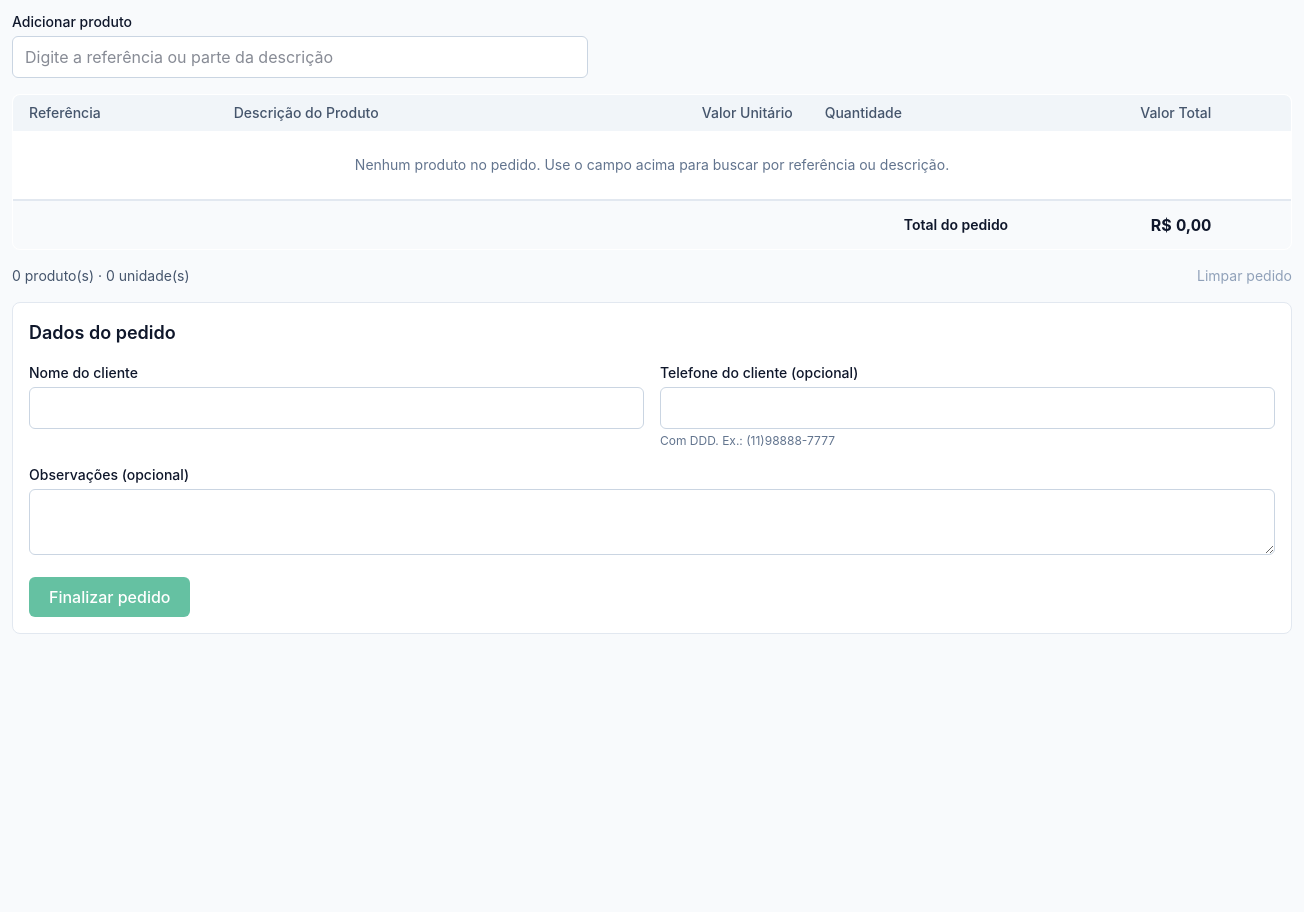
Scenario: seletor de produtos › sugere por referência ou descrição e adiciona a linha com quantidade 1
In the dropdown labelled "Adicionar produto": [300, 57] box [12,36,588,78], type "cam"
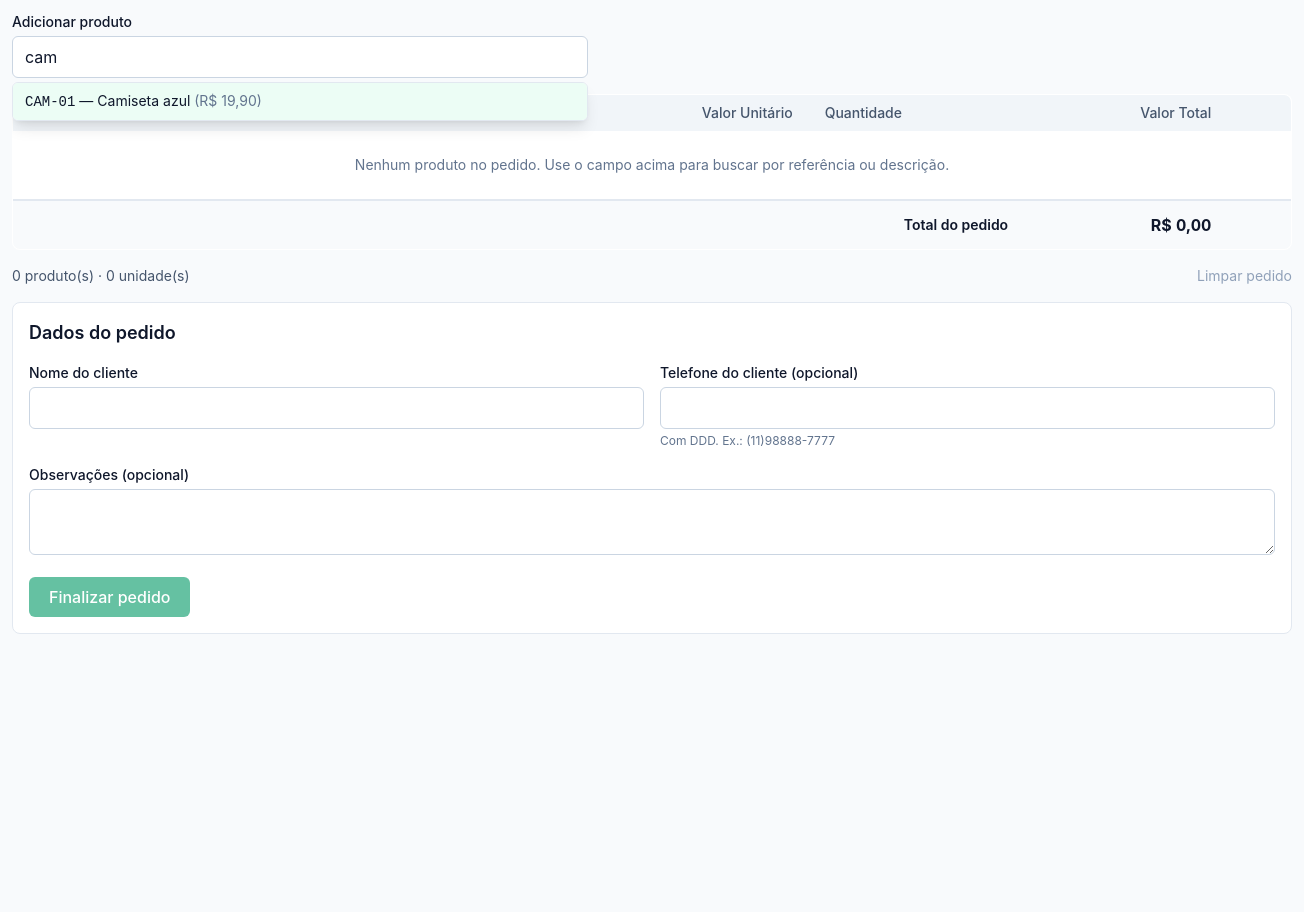
Result: the list named "Produtos encontrados" is shown
Press the mouse on the option "CAM-01 — Camiseta azul (R$ 19,90)": [50, 102] box [13,83,587,120]
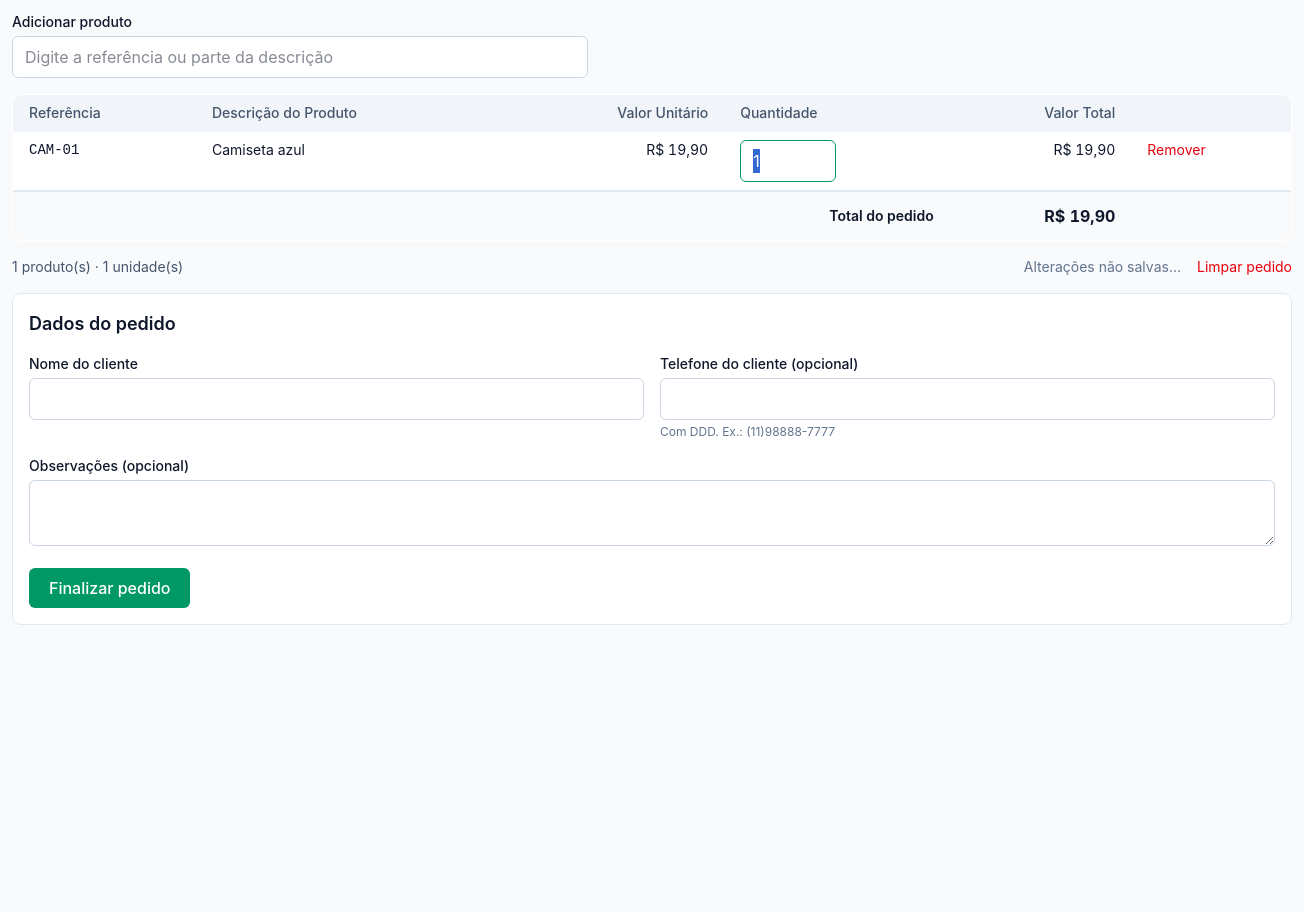
Result: the field named "Quantidade de CAM-01" holds "1" at [740,140,836,182]
Result: the 1st cell "R$ 19,90" is shown at [508,132,724,191]
Result: the dropdown labelled "Adicionar produto" is empty at [12,36,588,78]
